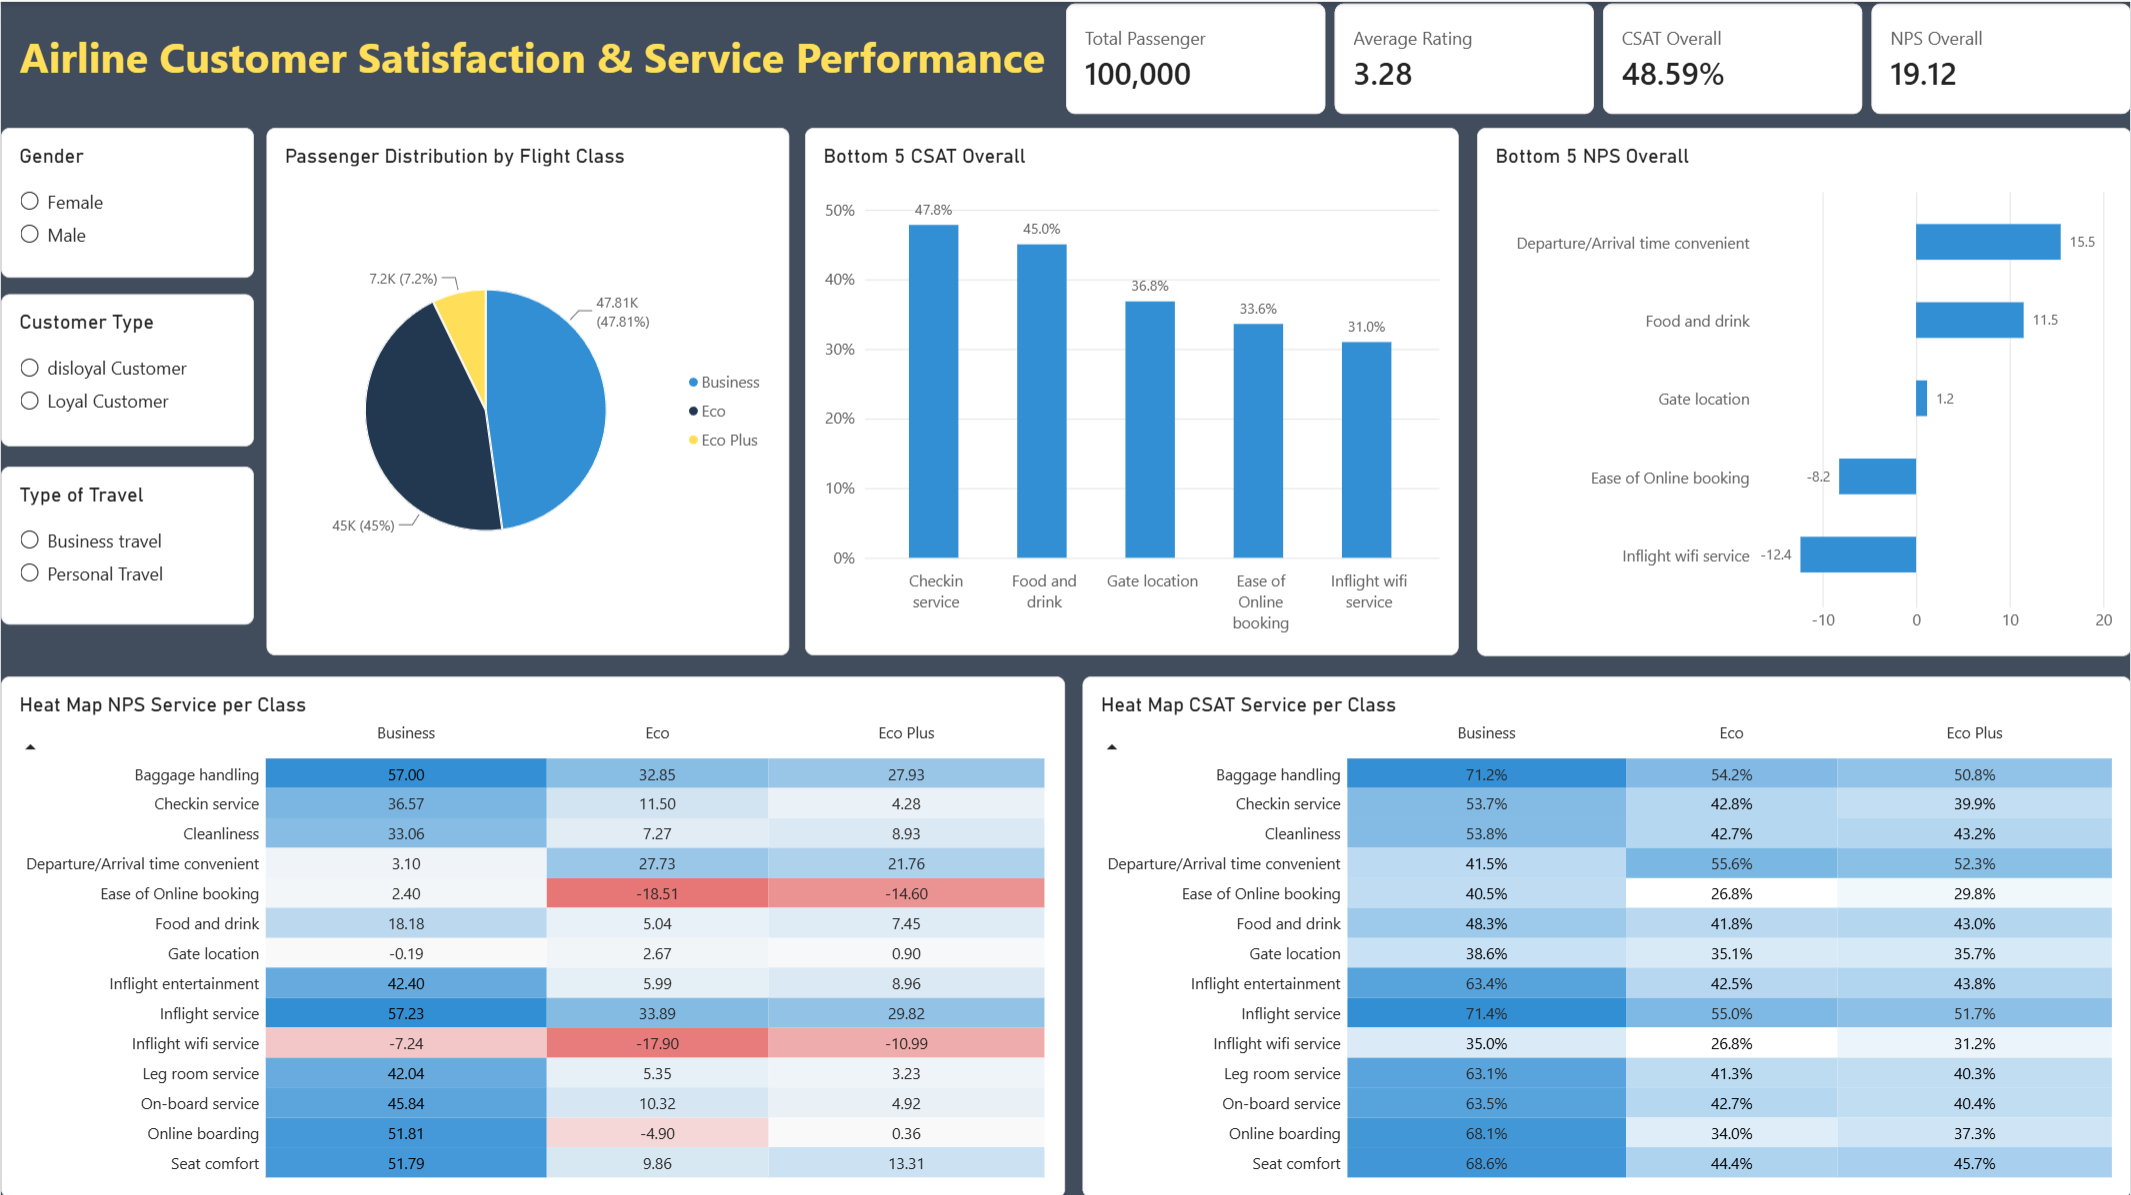

The page's visual inventory and layout, read from the dashboard file:
{"tool":"powerbi","page":{"name":"Page 1","canvas":[1920,1080],"ordinal":0},"visuals":[{"type":"cardVisual","fields":{"Data":["Count(Customer_Satisfaction_Clean.id)","Avg(Rating Layanan.Rating)","Rating Layanan.CSAT Overall","Rating Layanan.NPS Proxy Overall"]},"box":[959.5,1.5,961.2,100.8],"z":0},{"type":"clusteredColumnChart","title":"Bottom 5 CSAT Overall ","fields":{"Category":["Rating Layanan.Service"],"Y":["Rating Layanan.CSAT Overall"]},"box":[724.8,113,589.2,476.2],"z":1000},{"type":"clusteredBarChart","title":"Bottom 5 NPS Overall","fields":{"Category":["Rating Layanan.Service"],"Y":["Rating Layanan.NPS Proxy Overall"]},"box":[1330.6,113.1,589.9,476.7],"z":2000},{"type":"pieChart","title":"Passenger Distribution by Flight Class","fields":{"Category":["Customer_Satisfaction_Clean.Class"],"Y":["CountNonNull(Customer_Satisfaction_Clean.id)"]},"box":[239.9,113,471,476.2],"z":2002},{"type":"listSlicer","fields":{"Values":["Customer_Satisfaction_Clean.Gender"]},"box":[0,113,227.7,135.6],"z":2003},{"type":"listSlicer","fields":{"Values":["Customer_Satisfaction_Clean.Customer Type"]},"box":[0,264,227.8,137.3],"z":2004},{"type":"listSlicer","fields":{"Values":["Customer_Satisfaction_Clean.Type of Travel"]},"box":[0,419.4,227.7,142.5],"z":2005},{"type":"pivotTable","title":"Heat Map CSAT Service per Class","fields":{"Columns":["Customer_Satisfaction_Clean.Class"],"Rows":["Rating Layanan.Service"],"Values":["Rating Layanan.CSAT Overall"]},"box":[975.1,608.3,945.5,471],"z":2007},{"type":"pivotTable","title":"Heat Map NPS Service per Class","fields":{"Columns":["Customer_Satisfaction_Clean.Class"],"Rows":["Rating Layanan.Service"],"Values":["Rating Layanan.NPS Proxy Overall"]},"box":[0,608.3,959.4,471],"z":2008},{"type":"textbox","box":[8.1,24.4,942,52.8],"z":2009}]}

Visuals, with their boxes in screenshot pixels (x1, y1, x2, y2), scaled from the page's 1920x1080 canvas onto the 2131x1195 screenshot:
cardVisual - Count(Customer_Satisfaction_Clean.id) x Avg(Rating Layanan.Rating): {"x1": 1065, "y1": 2, "x2": 2130, "y2": 113}
"Bottom 5 CSAT Overall " clusteredColumnChart: {"x1": 804, "y1": 125, "x2": 1458, "y2": 652}
"Bottom 5 NPS Overall" clusteredBarChart: {"x1": 1477, "y1": 125, "x2": 2130, "y2": 653}
"Passenger Distribution by Flight Class" pieChart: {"x1": 266, "y1": 125, "x2": 789, "y2": 652}
listSlicer - Customer_Satisfaction_Clean.Gender: {"x1": 0, "y1": 125, "x2": 253, "y2": 275}
listSlicer - Customer_Satisfaction_Clean.Customer Type: {"x1": 0, "y1": 292, "x2": 253, "y2": 444}
listSlicer - Customer_Satisfaction_Clean.Type of Travel: {"x1": 0, "y1": 464, "x2": 253, "y2": 622}
"Heat Map CSAT Service per Class" pivotTable: {"x1": 1082, "y1": 673, "x2": 2130, "y2": 1194}
"Heat Map NPS Service per Class" pivotTable: {"x1": 0, "y1": 673, "x2": 1065, "y2": 1194}
textbox: {"x1": 9, "y1": 27, "x2": 1055, "y2": 85}
